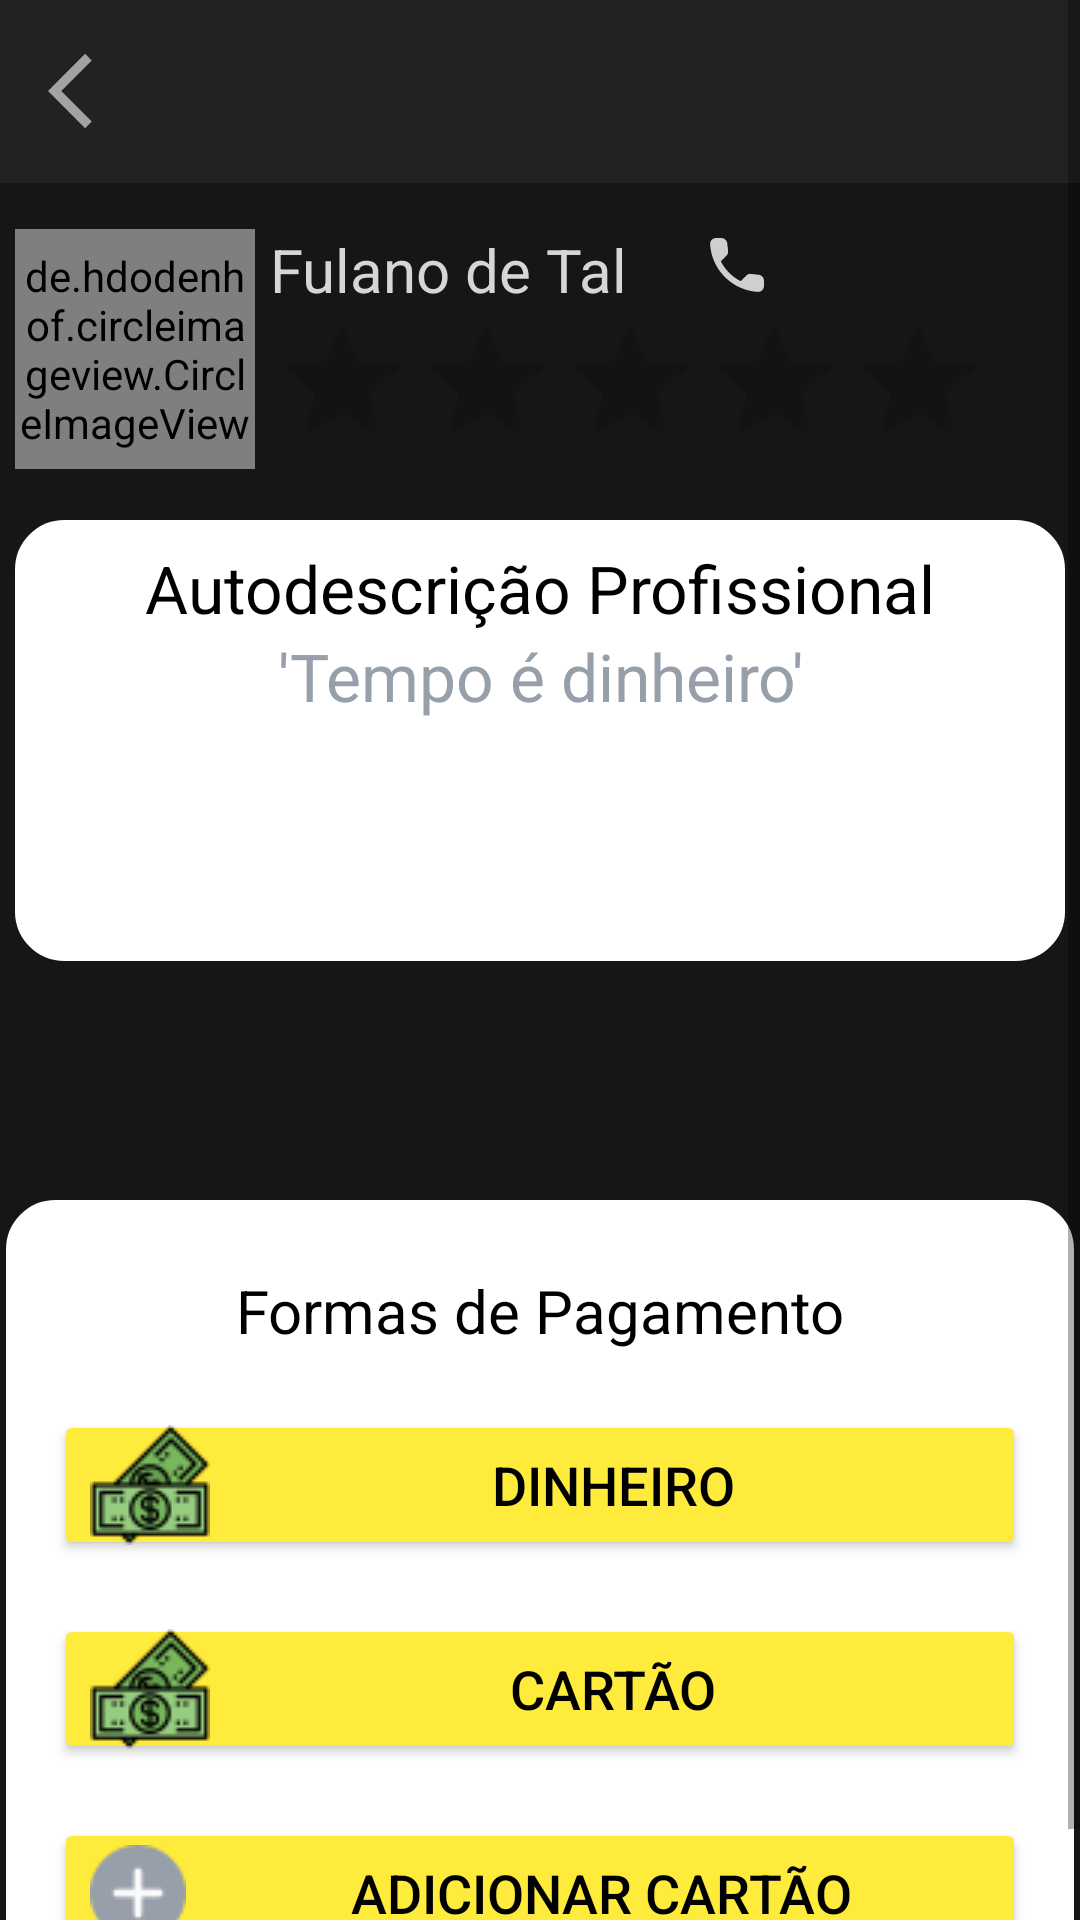

Named icons in this screenshot (1080×1920) and their centers, (x=x, y=y):
phone: (x=737, y=265)
voltar: (x=70, y=91)
